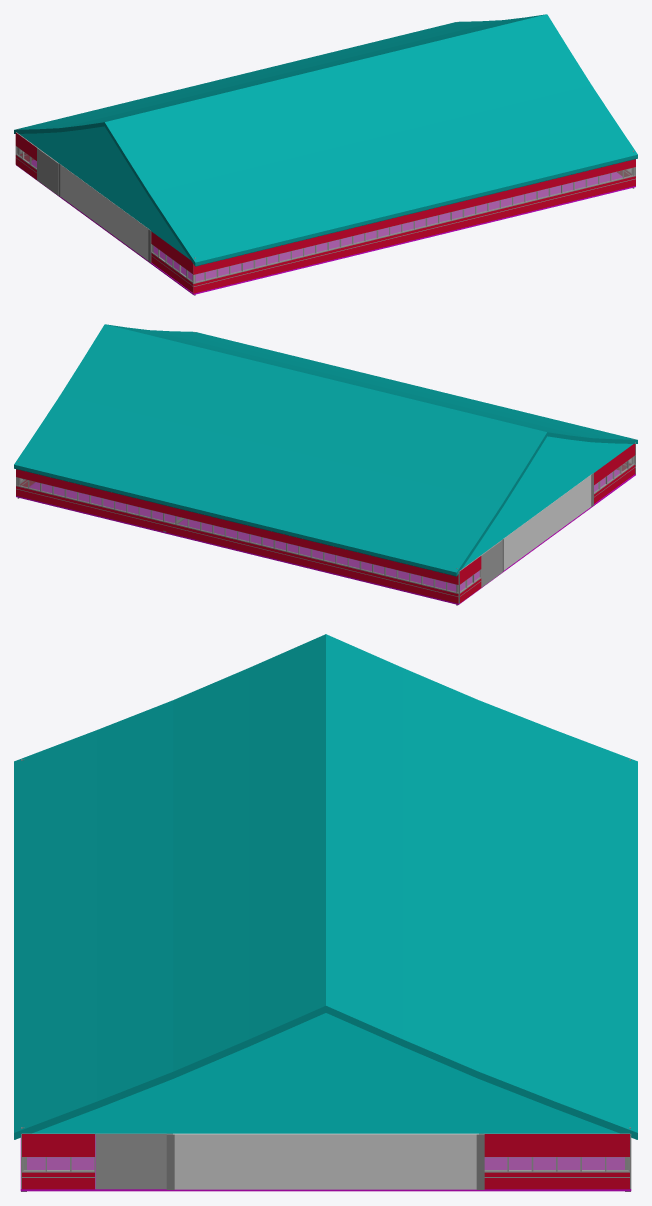
The model's file is Hall_Concept.fbx.
3 views of the same model, one above another, from view 1: azimuth 30°, elevation 25°; view 2: azimuth 150°, elevation 25°; view 3: azimuth 270°, elevation 25° (orthographic). The views are drawn at different scales.
Parts seen in each view (by area): view 1: Roof_Test, Wall_Shape8, pCube24, pCube1, pCube20, Door_wall1, Wall_Small_6, Wall_Small_5, Wall_Small_4; view 2: Roof_Test, Wall_Shape7, pCube24, pCube1, pCube20, Wall_Small_6, Door_wall1, Wall_Small_5, Wall_Small_4; view 3: Roof_Test, pCube23, pCube17, pCube1, Wall_Small_1, Wall_Small_3, Wall_Small_2, Door_wall.
Part boxes in pixels (bbox=[...]): Roof_Test: bbox=[14, 14, 637, 266]; Wall_Shape8: bbox=[192, 159, 635, 293]; pCube24: bbox=[19, 126, 190, 259]; pCube1: bbox=[16, 160, 635, 294]; pCube20: bbox=[60, 164, 148, 260]; Door_wall1: bbox=[37, 148, 58, 195]; Wall_Small_6: bbox=[15, 132, 37, 179]; Wall_Small_5: bbox=[151, 231, 172, 277]; Wall_Small_4: bbox=[172, 247, 194, 292]; Roof_Test: bbox=[14, 324, 637, 576]; Wall_Shape7: bbox=[16, 469, 458, 603]; pCube24: bbox=[462, 436, 632, 568]; pCube1: bbox=[16, 470, 635, 604]; pCube20: bbox=[503, 474, 591, 570]; Wall_Small_6: bbox=[459, 555, 481, 603]; Door_wall1: bbox=[481, 540, 502, 587]; Wall_Small_5: bbox=[594, 458, 614, 503]; Wall_Small_4: bbox=[614, 444, 634, 488]; Roof_Test: bbox=[14, 634, 637, 1139]; pCube23: bbox=[32, 1013, 619, 1134]; pCube17: bbox=[173, 1133, 478, 1189]; pCube1: bbox=[20, 1135, 631, 1191]; Wall_Small_1: bbox=[22, 1133, 94, 1189]; Wall_Small_3: bbox=[557, 1133, 629, 1189]; Wall_Small_2: bbox=[484, 1133, 556, 1189]; Door_wall: bbox=[95, 1133, 166, 1189].
Size of the model in its own units: 72.29 by 16.94 by 51.1.
